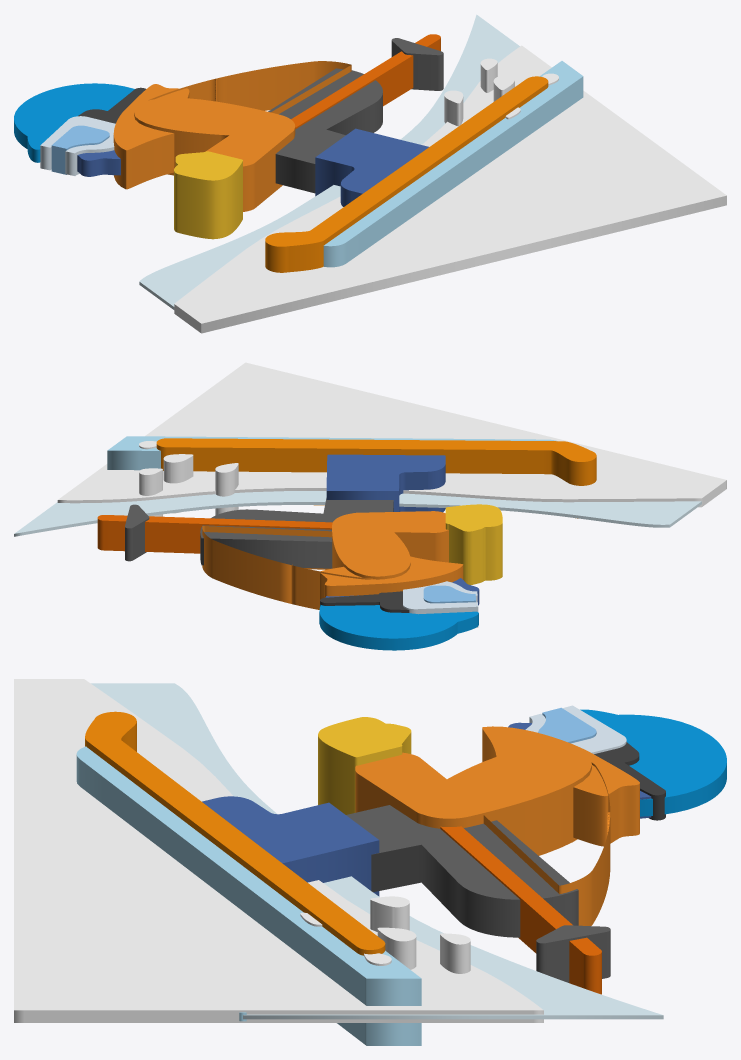
The model's file is emoji_u26f7.glb.
3 renders of one model, top to bottom at view 1: azimuth 30°, elevation 25°; view 2: azimuth 150°, elevation 25°; view 3: azimuth 270°, elevation 25°, orthographic. The views are drawn at different scales.
Parts seen in each view (by area): view 1: emoji_u26f7; view 2: emoji_u26f7; view 3: emoji_u26f7.
Boxes of the visible parts, <box> form: emoji_u26f7: <box>14,14,726,333</box>; emoji_u26f7: <box>14,362,726,650</box>; emoji_u26f7: <box>14,679,726,1045</box>.
Size of the model in its own units: 0.0338 by 0.0038 by 0.0307.
